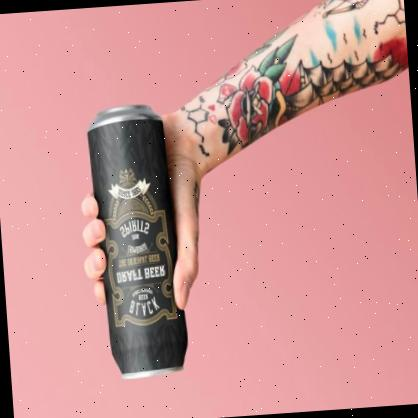can: (83, 96, 193, 388)
